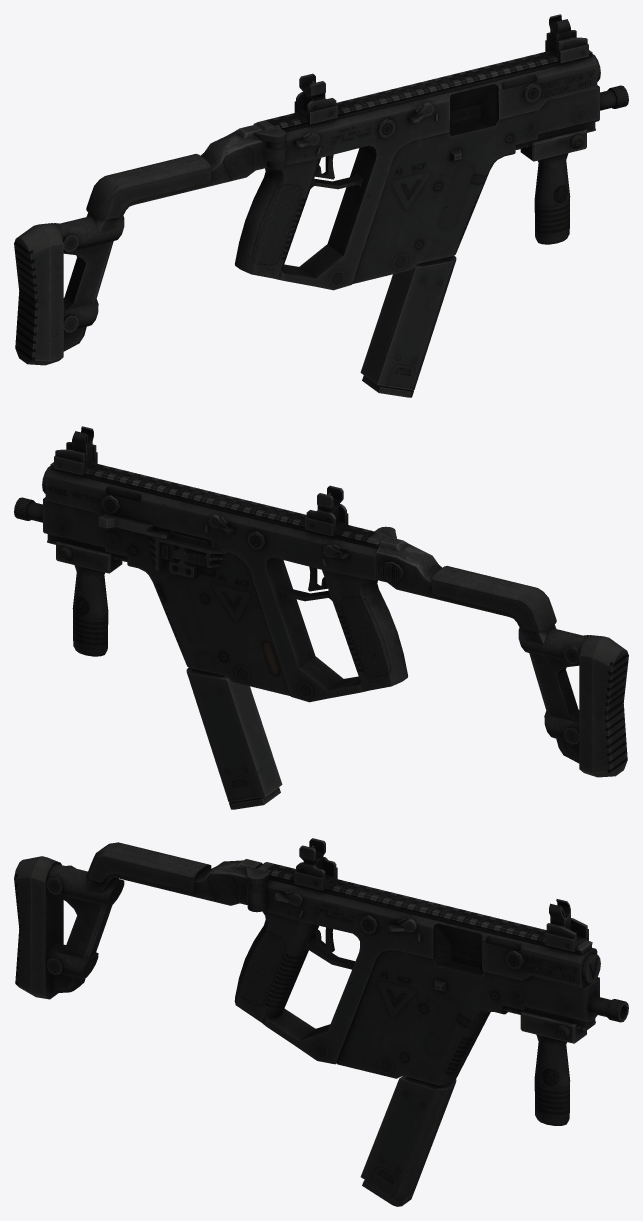
File: KRISS_Vector.fbx
3 renders of one model, top to bottom at view 1: azimuth 30°, elevation 25°; view 2: azimuth 150°, elevation 25°; view 3: azimuth 330°, elevation 25°, orthographic.
Parts seen in each view (by area): view 1: KRISS_Vector; view 2: KRISS_Vector; view 3: KRISS_Vector.
Part boxes in pixels (x1=…): KRISS_Vector: x1=14, y1=14, x2=628, y2=397; KRISS_Vector: x1=14, y1=426, x2=628, y2=809; KRISS_Vector: x1=14, y1=838, x2=628, y2=1206.
Bounding box in the file's own units: 643 × 344 × 54.31.
Materials: 1 (1 with a texture image).
